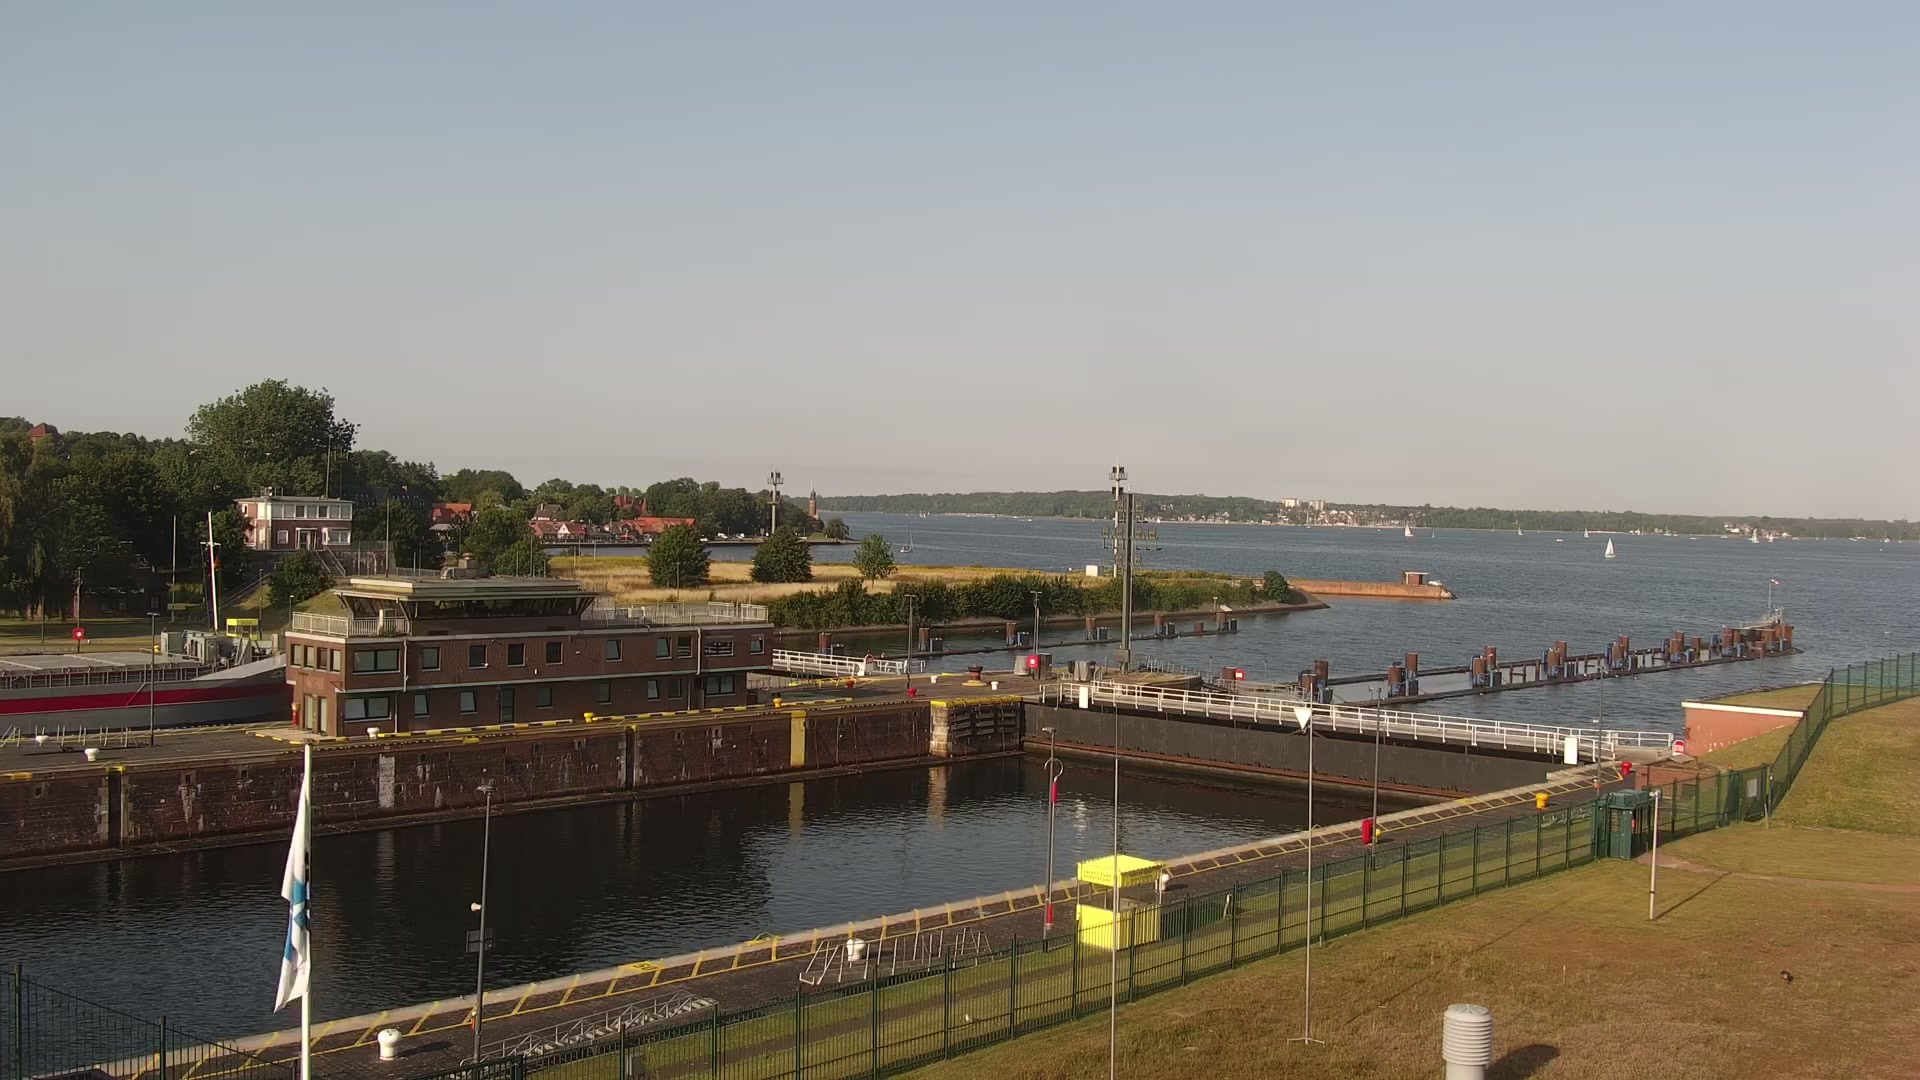land: (717, 531, 729, 541)
sea: (1, 626, 293, 737), (898, 522, 913, 553), (1604, 537, 1617, 558), (1751, 527, 1760, 545), (1404, 522, 1415, 537), (1582, 527, 1592, 538), (1516, 525, 1524, 535), (1767, 533, 1775, 543), (918, 510, 927, 518), (1155, 516, 1160, 524)
